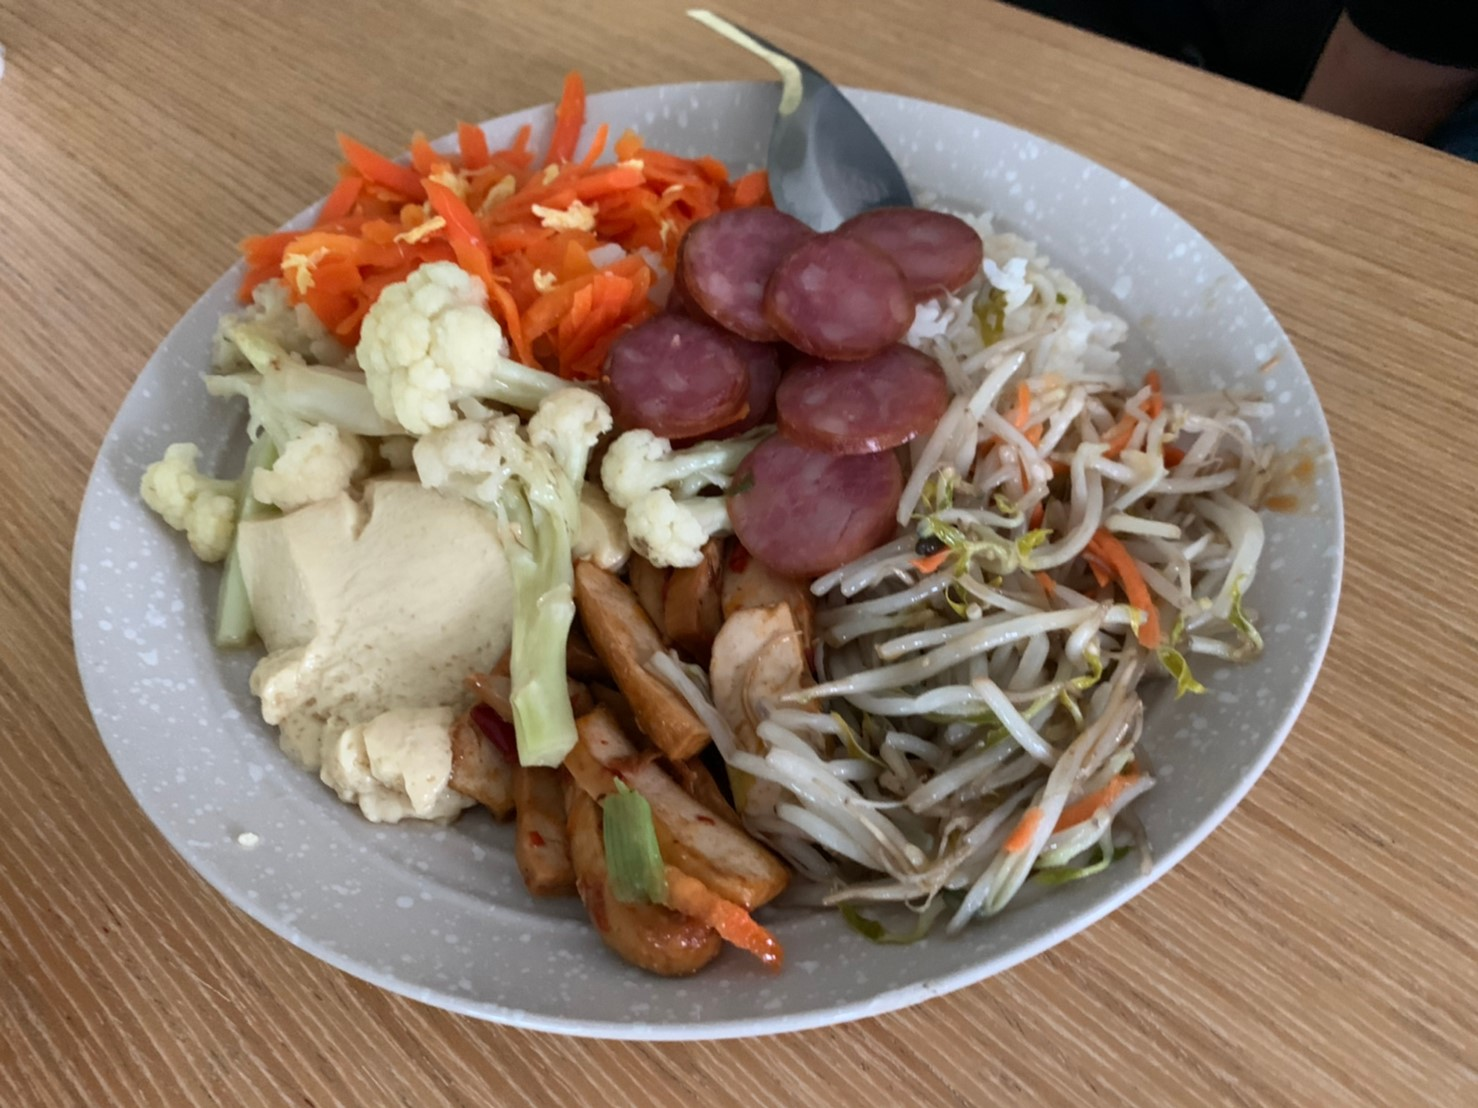carrot_eggs: (232, 125, 766, 372)
chinese_sausage: (601, 203, 988, 575)
mung_bean_sprouts: (787, 376, 1227, 896)
